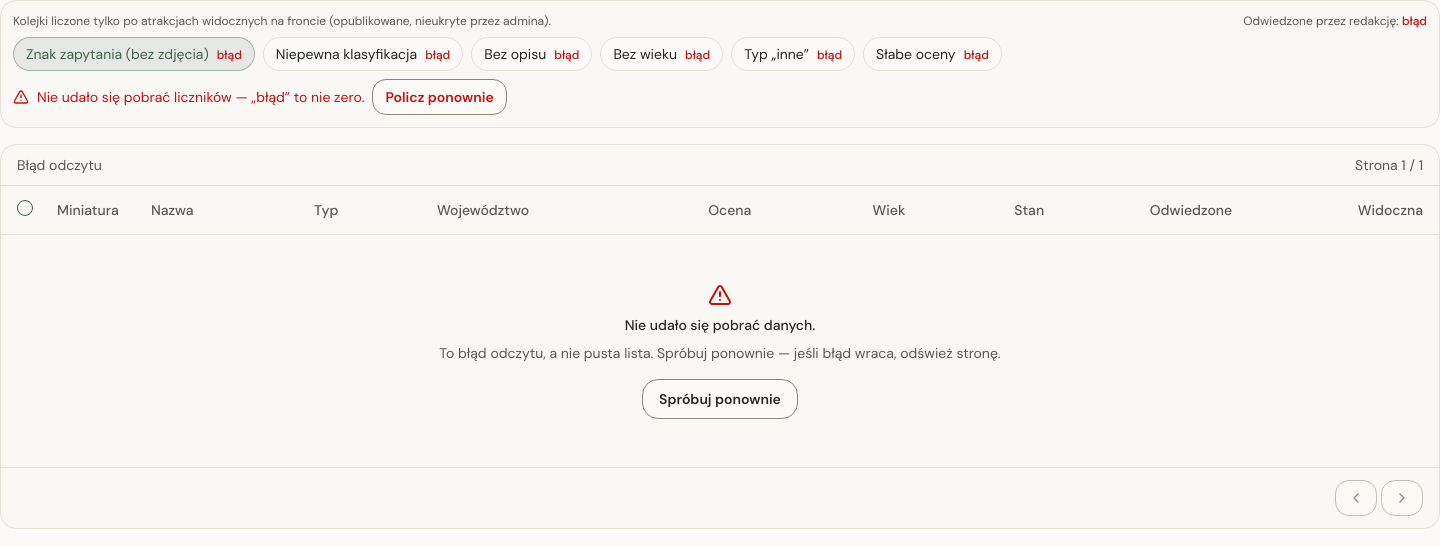
Test case: Do przejrzenia — błąd liczników nie udaje ładowania (GL-3-041) › 500 → 7 znaczników „błąd” i komunikat; „Policz ponownie” z udanym odczytem → liczby
Expected: the text "Nie udało się pobrać liczników — „błąd” to nie zero." is shown, top-left (37, 87), bottom-right (364, 107)
Click the button "Policz ponownie" at (440, 97), box top-left (372, 79), bottom-right (507, 115)
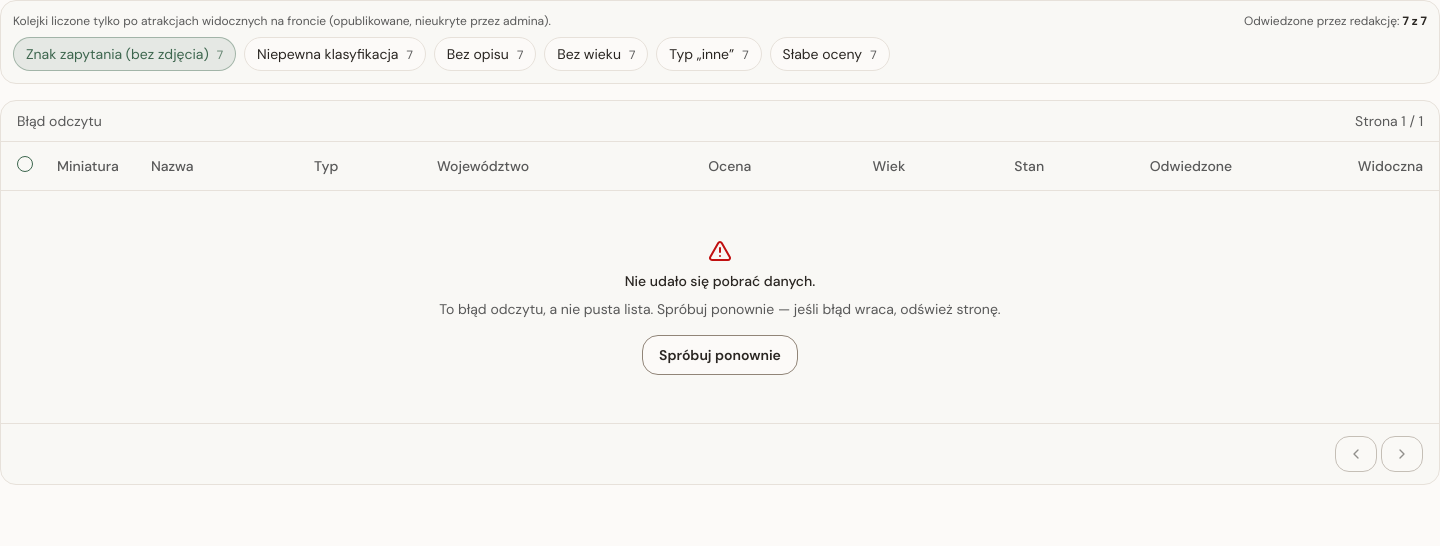
Expected: the text "Nie udało się pobrać liczników" is gone
Expected: the text "7 z 7" is shown, top-left (1403, 13), bottom-right (1427, 29)
